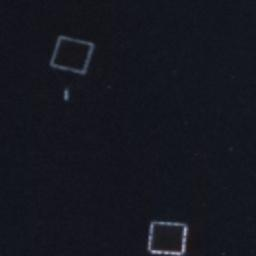square_solid: (46, 31, 98, 80), (143, 214, 191, 256)
